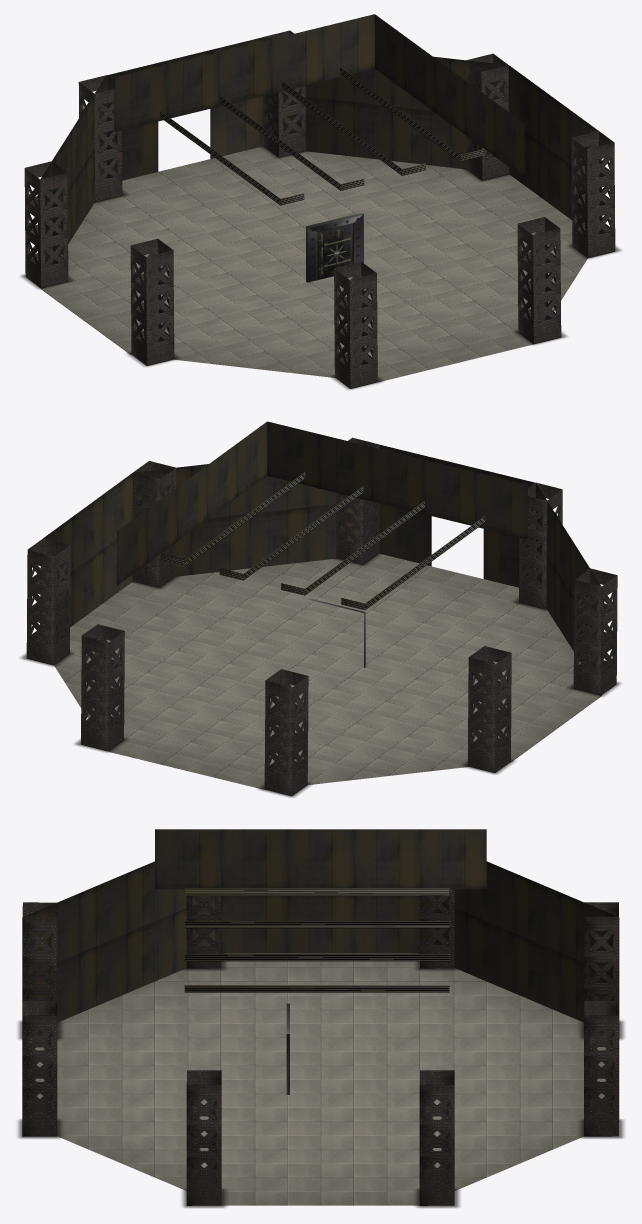
The model's file is room_23.glb.
3 views of the same model, one above another, from view 1: azimuth 30°, elevation 25°; view 2: azimuth 150°, elevation 25°; view 3: azimuth 270°, elevation 25° (orthographic). The views are drawn at different scales.
Visible parts, largest first — view 1: floor, walls, props (×8), VaultDoorCover, Lights4, Lights6, Lights1, Lights2; view 2: floor, walls, props (×8), Lights1, Lights2, Lights6, Lights4; view 3: floor, walls, props (×8), Lights1, Lights6, Lights2, Lights4.
Part boxes in pixels (x1,y1,x2,y2): floor: [40, 146, 587, 382]; walls: [40, 14, 598, 287]; props (×8): [24, 30, 615, 388]; VaultDoorCover: [306, 212, 363, 282]; Lights4: [220, 96, 364, 190]; Lights6: [160, 111, 304, 205]; Lights1: [340, 67, 483, 161]; Lights2: [282, 81, 425, 175]; floor: [54, 553, 601, 789]; walls: [42, 421, 601, 695]; props (×8): [26, 437, 617, 796]; Lights1: [161, 472, 305, 566]; Lights2: [219, 486, 363, 580]; Lights6: [341, 516, 485, 610]; Lights4: [281, 501, 424, 595]; floor: [35, 953, 619, 1205]; walls: [22, 829, 619, 1036]; props (×8): [22, 889, 618, 1205]; Lights1: [184, 985, 449, 992]; Lights6: [184, 888, 449, 895]; Lights2: [184, 954, 449, 961]; Lights4: [184, 921, 449, 928].
Size of the model in its own units: 139 by 45.54 by 139.
11 materials, 11 textured.
